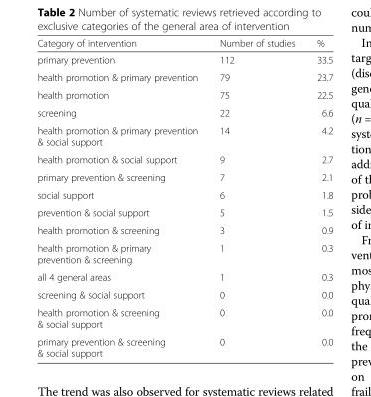table: (36, 37, 332, 358)
table column: (36, 37, 208, 358), (208, 37, 305, 358), (305, 37, 332, 358)
table column header: (36, 37, 332, 50)
table row: (36, 121, 332, 150), (36, 238, 332, 267), (36, 303, 332, 332), (36, 332, 332, 358), (36, 50, 332, 68), (36, 85, 332, 103), (36, 103, 332, 121), (36, 150, 332, 168), (36, 185, 332, 203), (36, 203, 332, 221), (36, 267, 332, 285), (36, 285, 332, 303), (36, 68, 332, 85), (36, 168, 332, 185), (36, 221, 332, 238), (36, 37, 332, 50)
